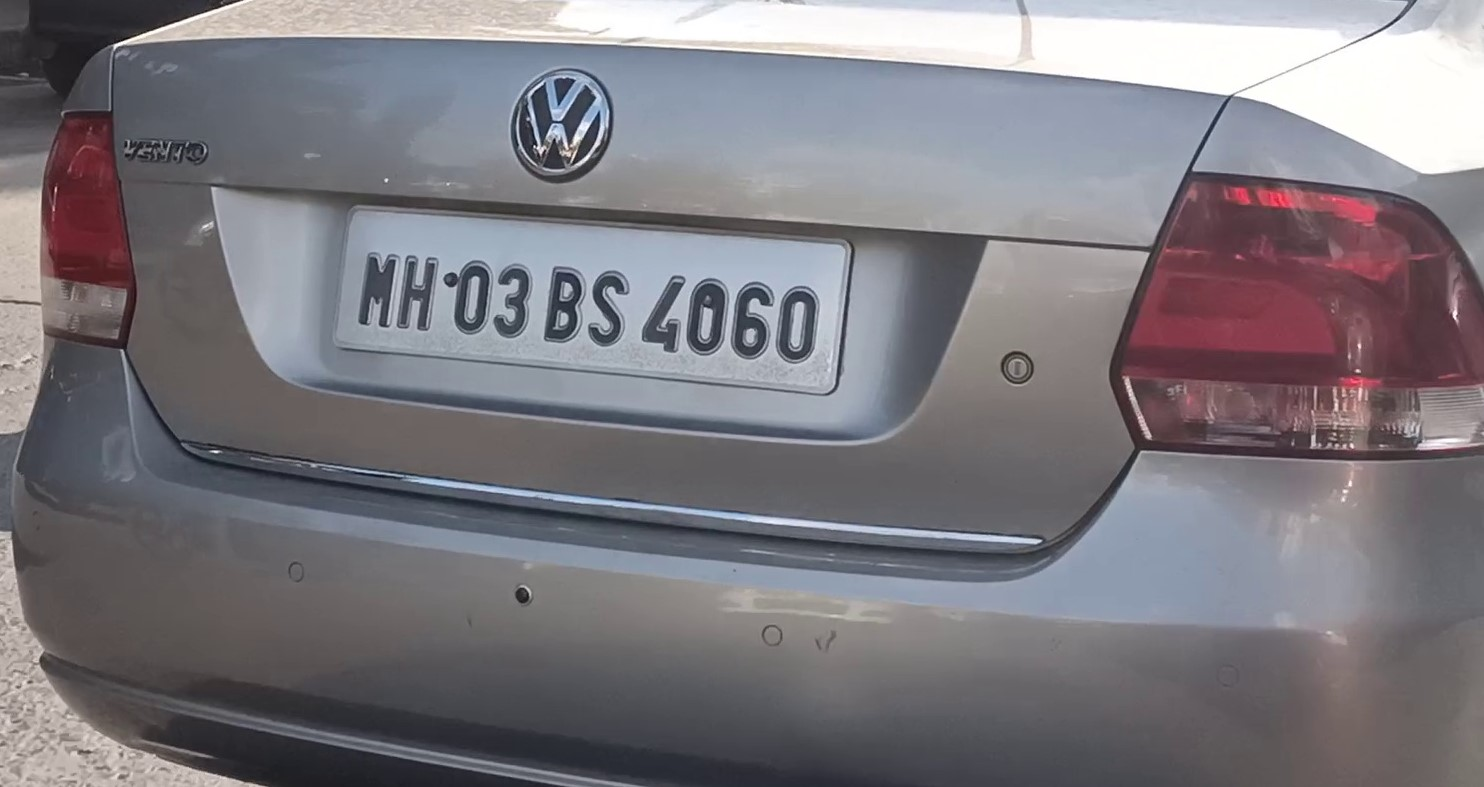MH03BS4060: (331, 204, 853, 398)
